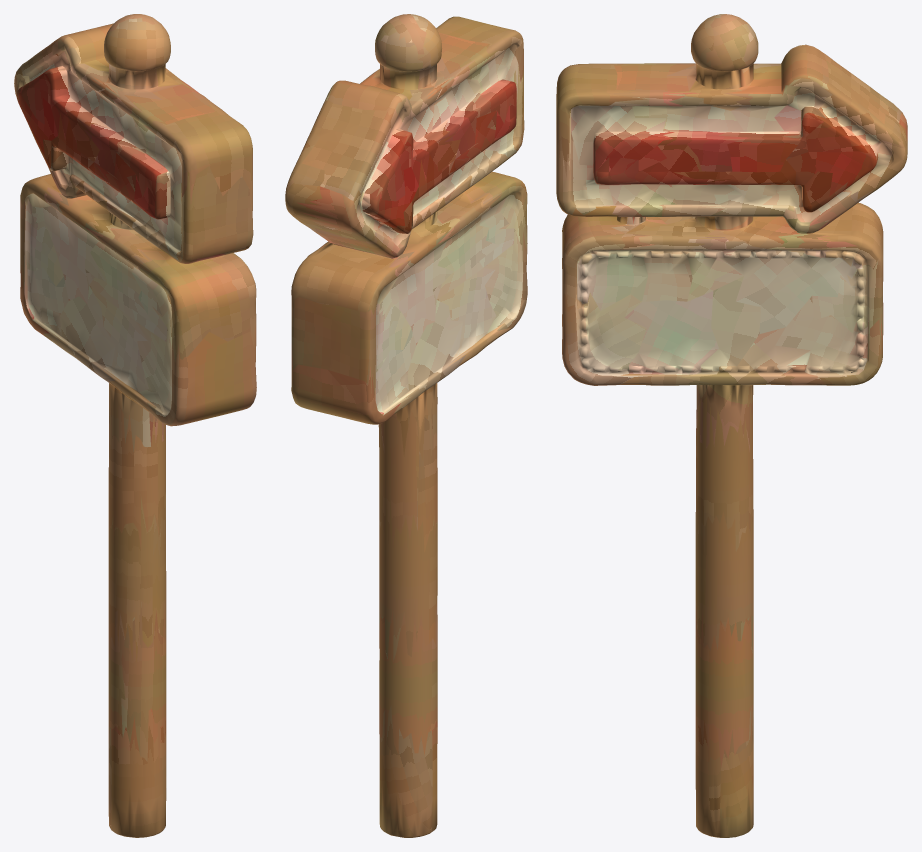
File: KR_사물_s1_sm_drive_thru_sign.glb
The picture shows the model from 3 angles, left to right: view 1: azimuth 30°, elevation 25°; view 2: azimuth 150°, elevation 25°; view 3: azimuth 270°, elevation 25°; orthographic projection.
Visible parts, largest first — view 1: tripo_node_c76a00eb-ebbf-4887-a72d-34ab57993596; view 2: tripo_node_c76a00eb-ebbf-4887-a72d-34ab57993596; view 3: tripo_node_c76a00eb-ebbf-4887-a72d-34ab57993596.
Part boxes in pixels (x1,y1,x2,y2): tripo_node_c76a00eb-ebbf-4887-a72d-34ab57993596: [14, 14, 256, 837]; tripo_node_c76a00eb-ebbf-4887-a72d-34ab57993596: [285, 14, 527, 837]; tripo_node_c76a00eb-ebbf-4887-a72d-34ab57993596: [556, 14, 907, 837].
Bounding box in the file's own units: 0.1181 × 1 × 0.3931.
1 material, 1 textured.
